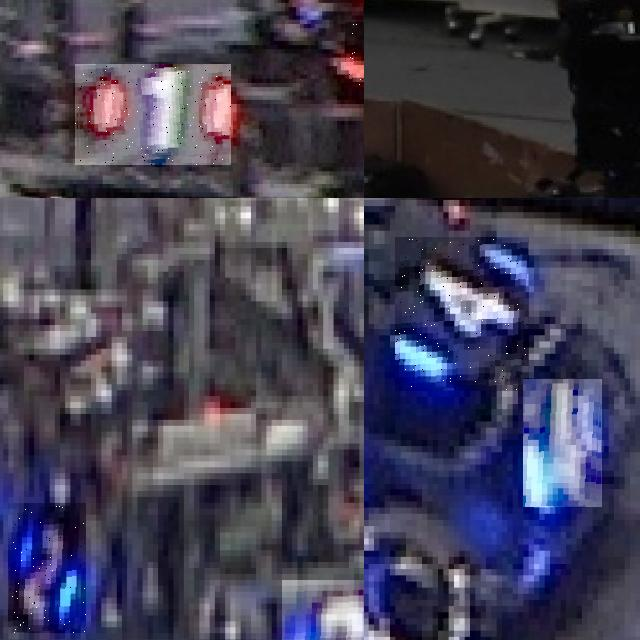B2: (8, 503, 86, 633), (282, 579, 364, 640)
B4: (395, 237, 529, 391), (524, 379, 604, 507)
R1: (75, 64, 231, 165)
